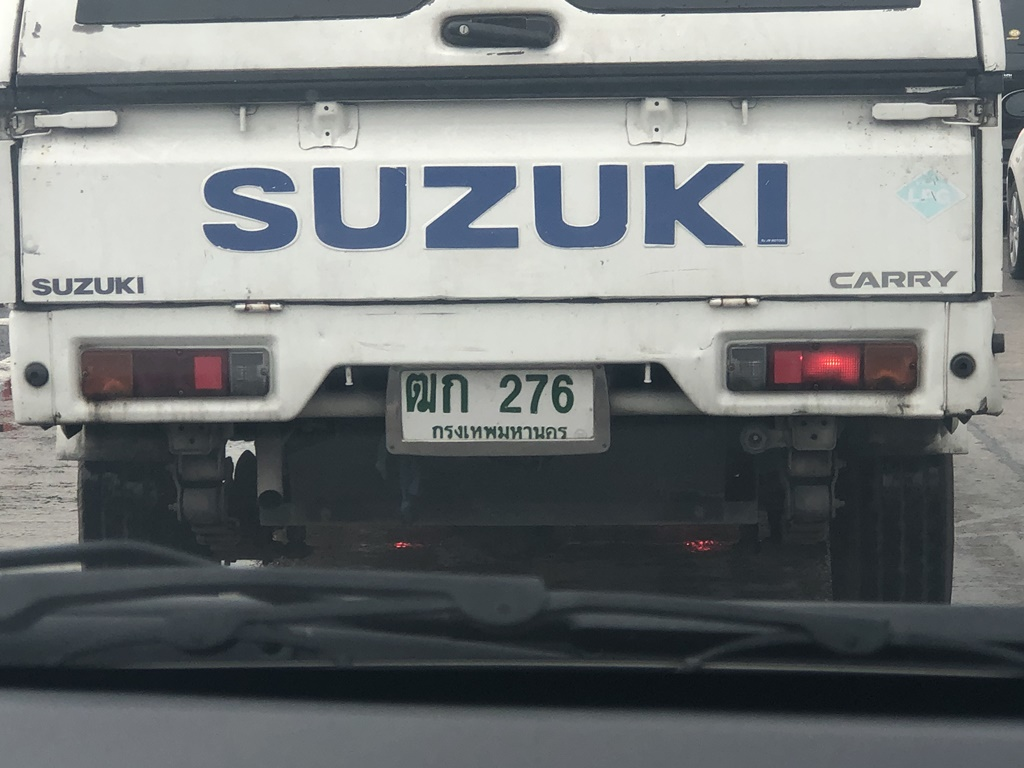six: (543, 373, 589, 417)
two: (489, 368, 525, 417)
